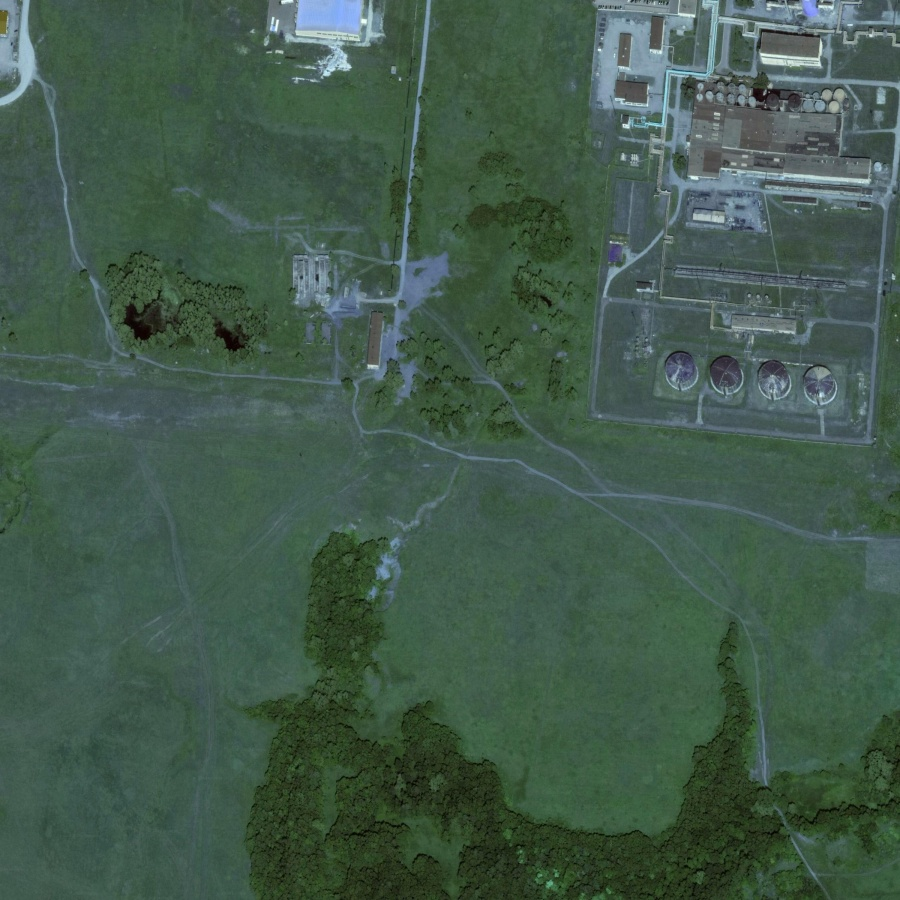PowerPlant: (658, 300, 868, 466)
